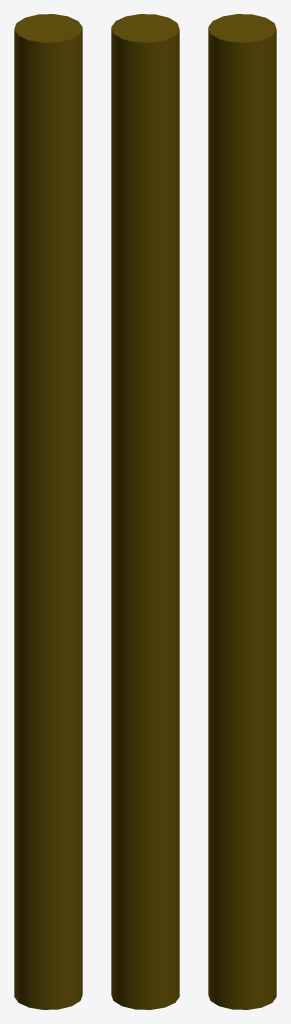
The model's file is IceBucket01_Sparkle.FBX.
3 views of the same model, side by side, from view 1: azimuth 30°, elevation 25°; view 2: azimuth 150°, elevation 25°; view 3: azimuth 330°, elevation 25° (orthographic).
Visible parts, largest first — view 1: IceBucketSFX01; view 2: IceBucketSFX01; view 3: IceBucketSFX01.
Boxes of the visible parts, <box> form: IceBucketSFX01: <box>14,14,82,1009</box>; IceBucketSFX01: <box>111,14,179,1009</box>; IceBucketSFX01: <box>208,14,276,1009</box>.
Bounding box in the file's own units: 1.2 × 18.61 × 1.17.
